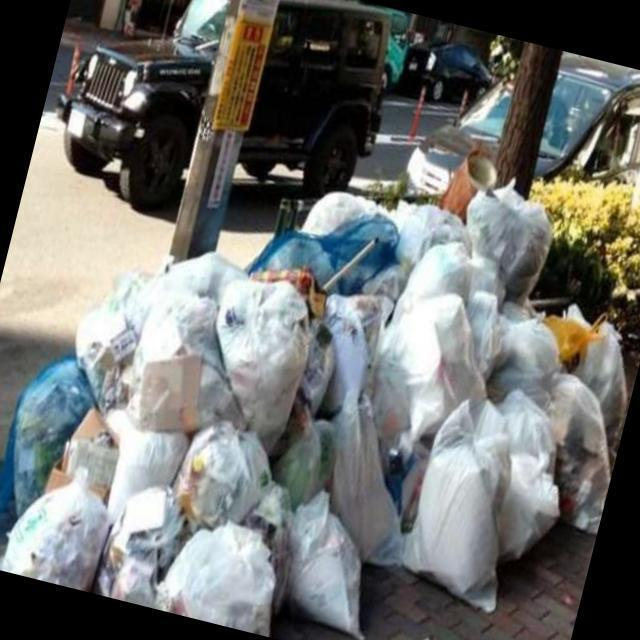garbage: (282, 192, 640, 640), (0, 211, 363, 638), (244, 166, 409, 308), (450, 167, 568, 298)
